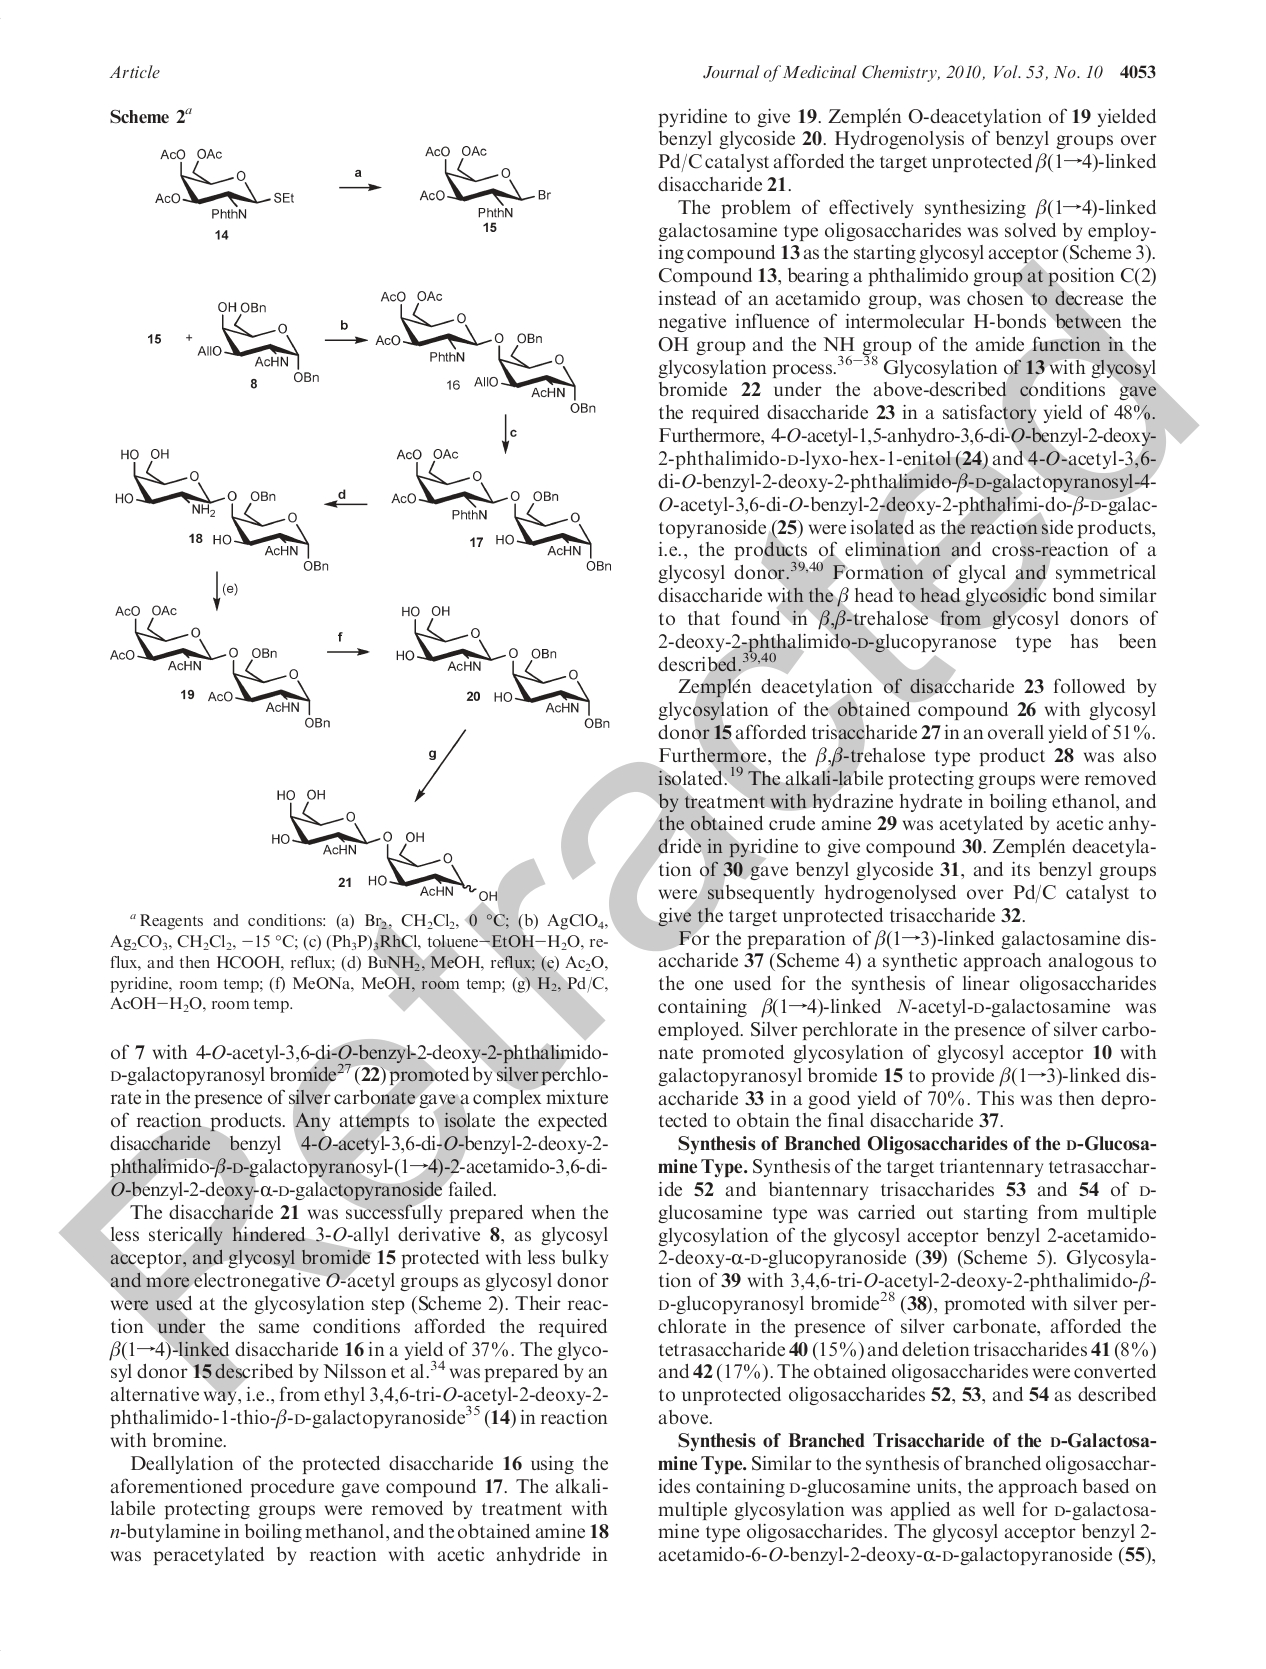exist_molecular: (390, 435, 620, 575), (106, 442, 336, 578), (364, 289, 598, 423), (106, 597, 336, 730), (265, 781, 509, 900), (400, 600, 606, 731), (415, 137, 559, 235), (186, 291, 328, 388), (150, 144, 299, 225)
